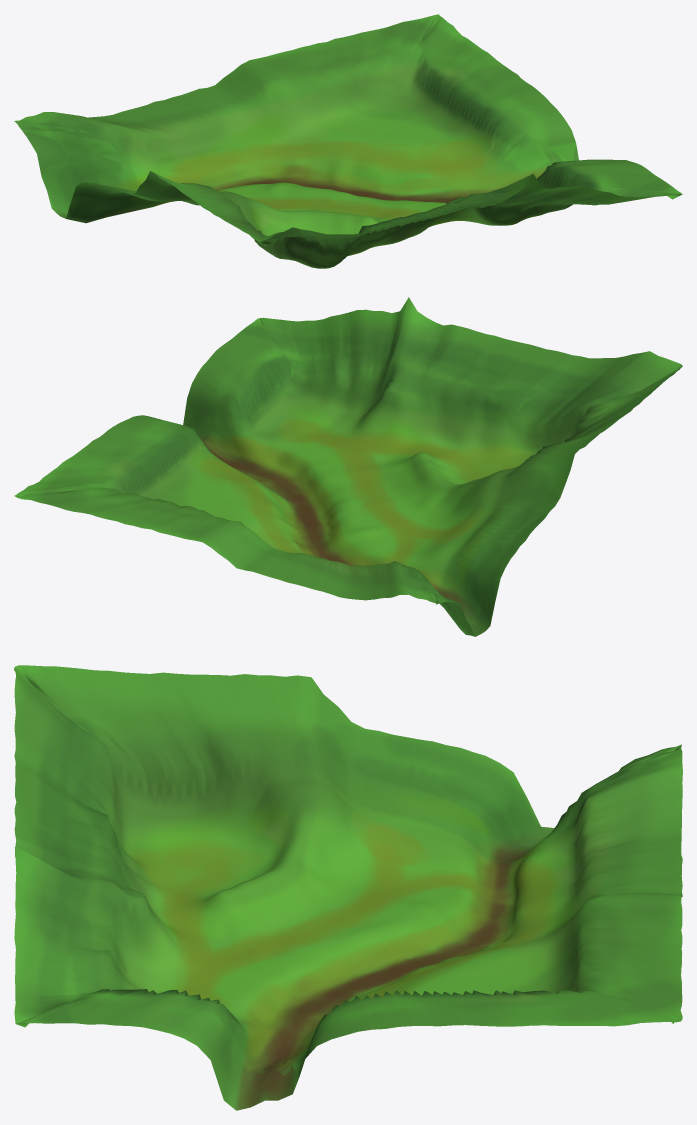
Rendered from levelrevamp 1.fbx.
The picture shows the model from 3 angles, top to bottom: view 1: azimuth 30°, elevation 25°; view 2: azimuth 150°, elevation 25°; view 3: azimuth 270°, elevation 25°; orthographic projection. The views are drawn at different scales.
Parts seen in each view (by area): view 1: Grid; view 2: Grid; view 3: Grid.
Part boxes in pixels (box(x1,y1,x2,y2)): Grid: box(14, 14, 682, 268); Grid: box(14, 297, 682, 636); Grid: box(14, 665, 682, 1110).
Bounding box in the file's own units: 6888 × 2014 × 6882.
